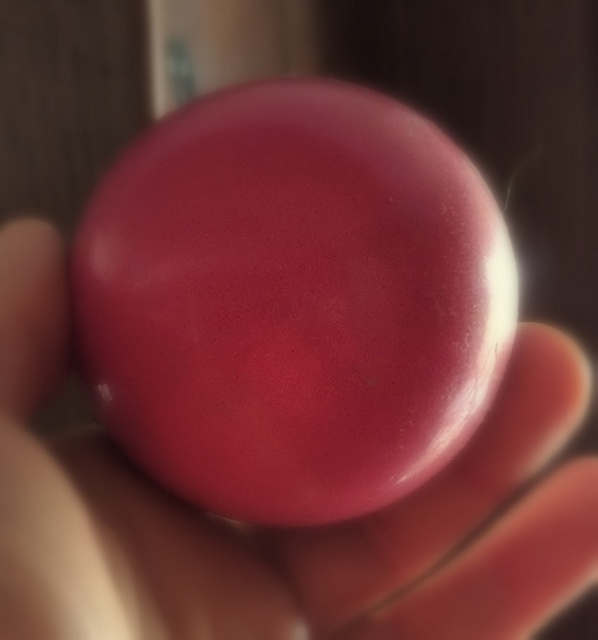ball: (80, 78, 522, 521)
